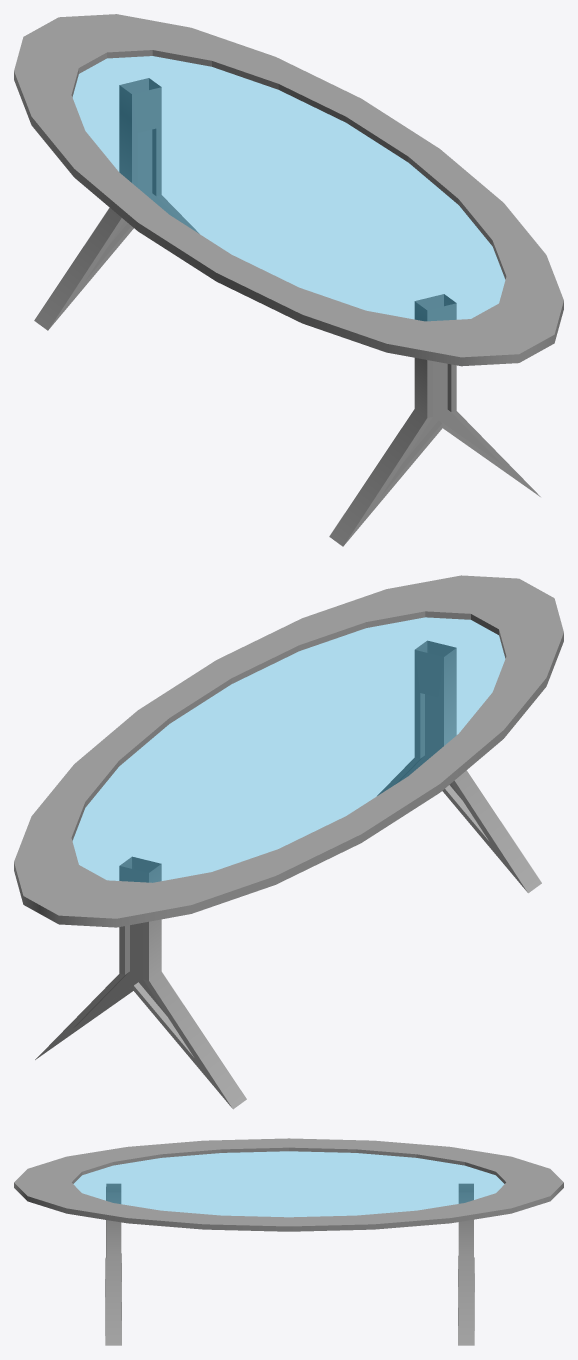
The model's file is SM_dinnertable.fbx.
The picture shows the model from 3 angles, top to bottom: view 1: azimuth 30°, elevation 25°; view 2: azimuth 150°, elevation 25°; view 3: azimuth 270°, elevation 25°; orthographic projection. The views are drawn at different scales.
Visible parts, largest first — view 1: polySurface2438; view 2: polySurface2438; view 3: polySurface2438.
Boxes of the visible parts, <box> form: polySurface2438: <box>14,14,563,546</box>; polySurface2438: <box>14,575,563,1109</box>; polySurface2438: <box>14,1138,563,1345</box>.
Size of the model in its own units: 11.7 by 8.31 by 30.9.
